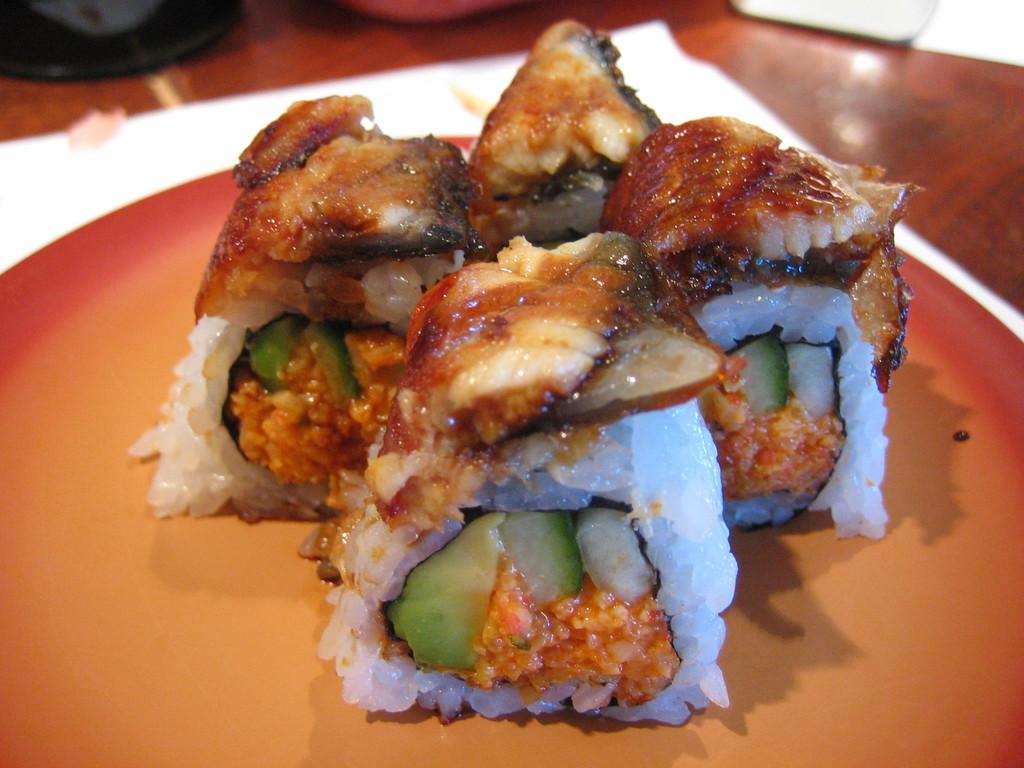sushi: (308, 227, 749, 716), (127, 92, 484, 518), (596, 114, 920, 534), (474, 18, 665, 273)
